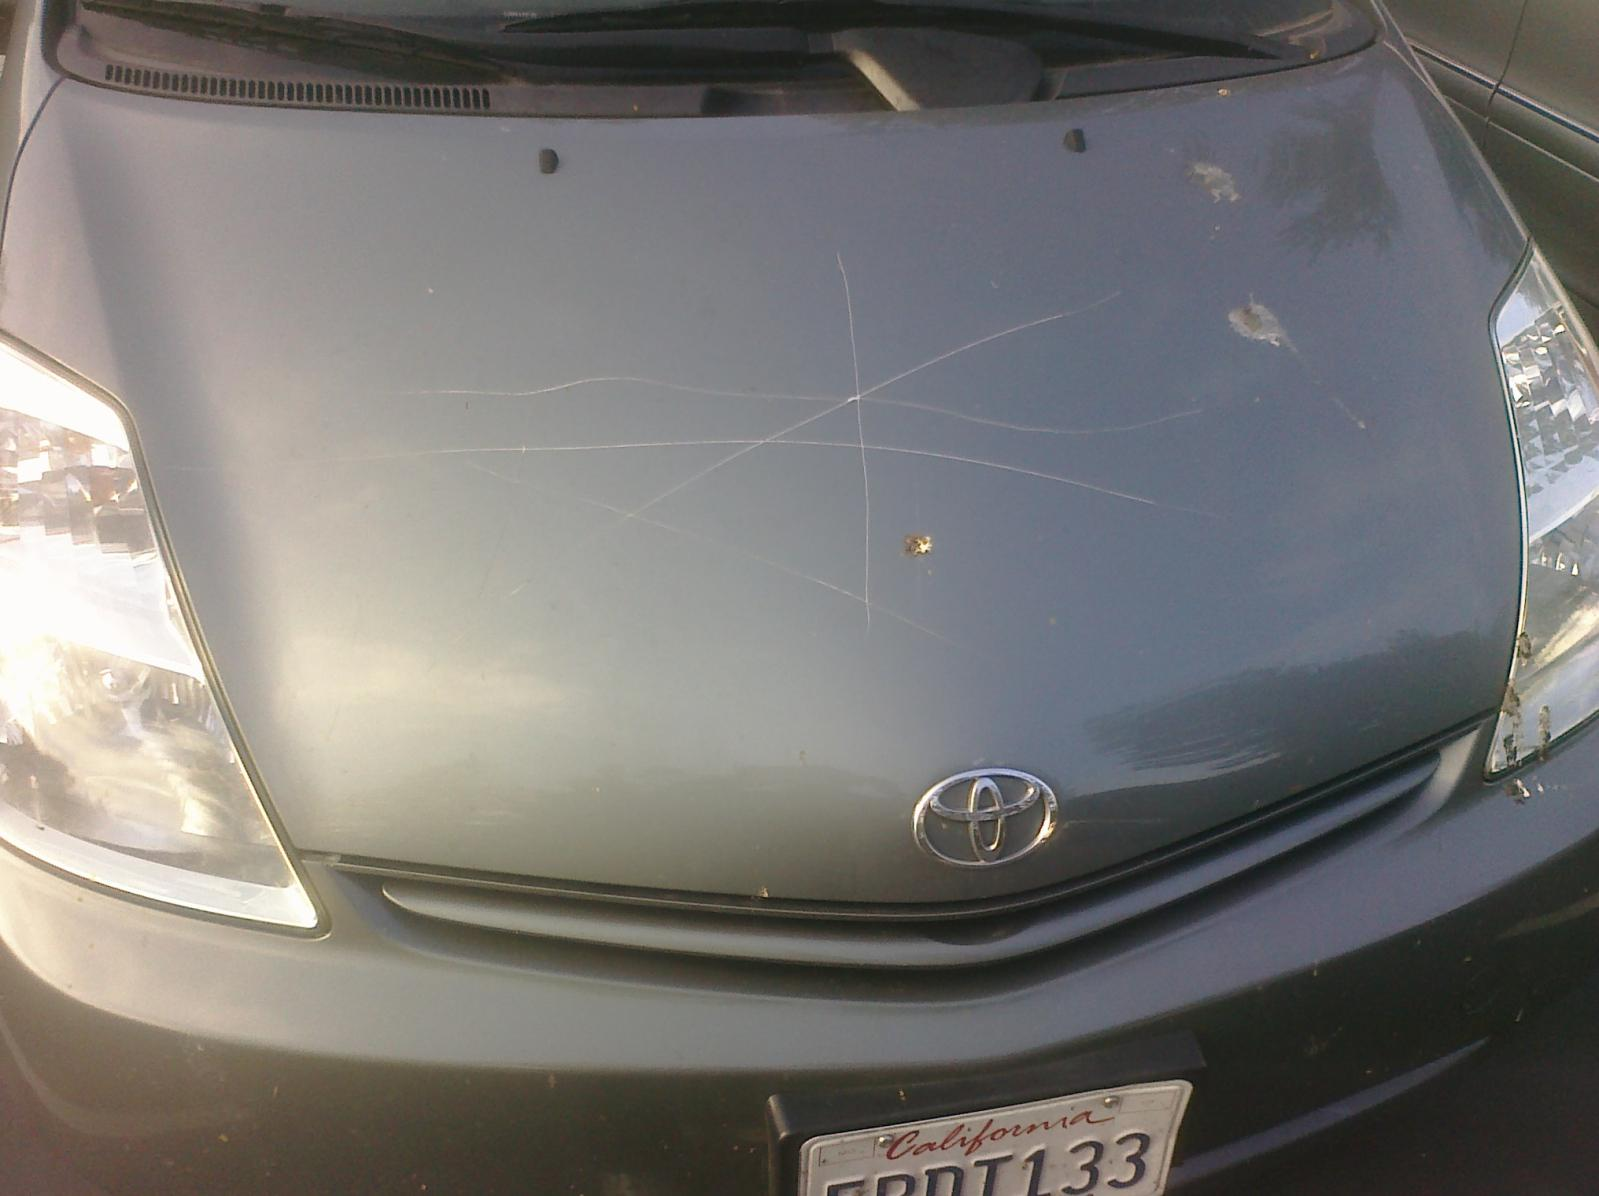bonnet-dent: (43, 116, 1598, 906)
